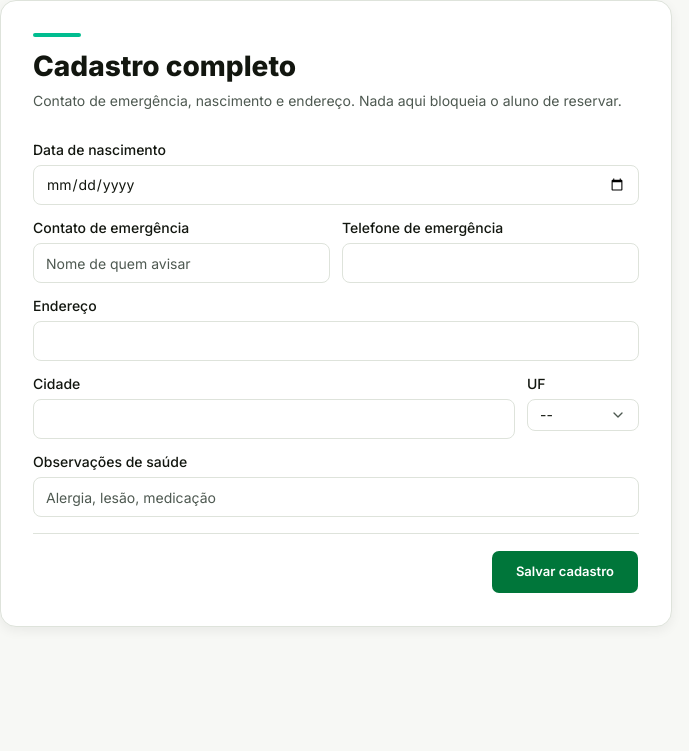
Test: CadastroCompletoDoAluno › `DATA_NASCIMENTO_INVALIDA` vira mensagem por CODE
Click the button "Salvar cadastro" at (565, 572), box [491, 550, 639, 594]
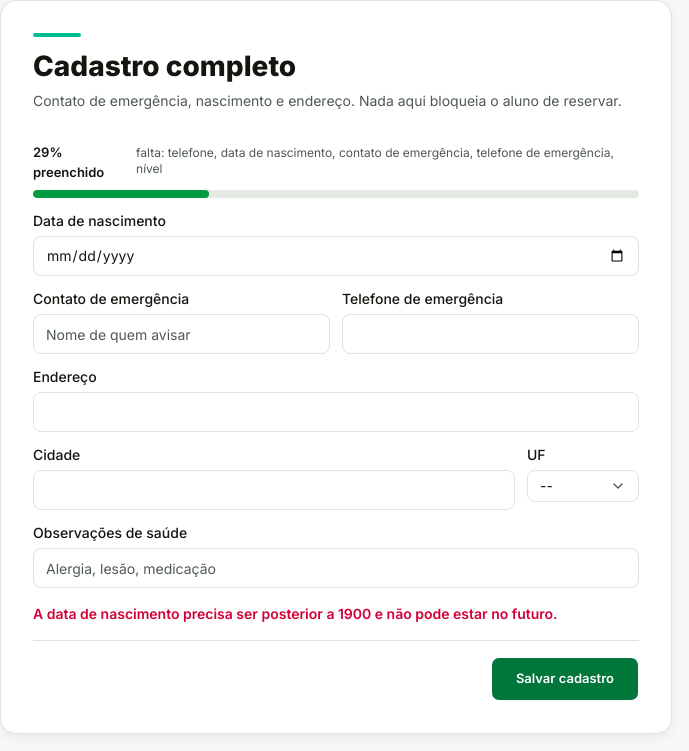
Check: the text "A data de nascimento precisa ser posterior a 1900 e não pode estar no futuro." is shown, box [33, 604, 639, 624]
